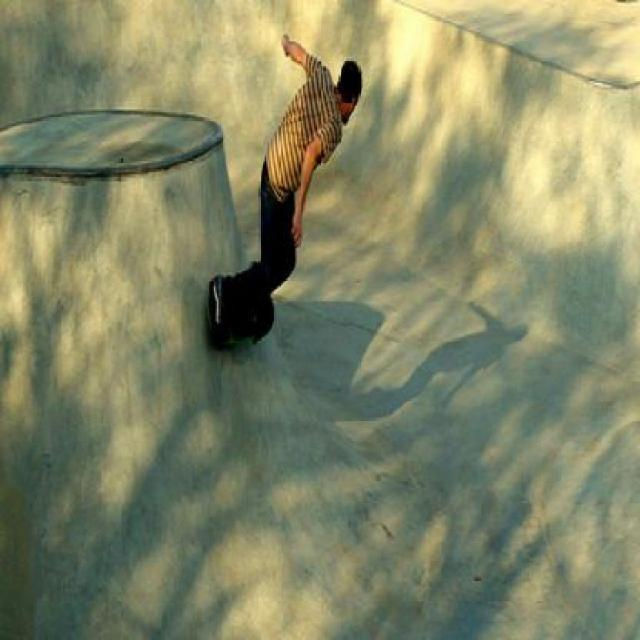Person: (210, 31, 362, 344)
